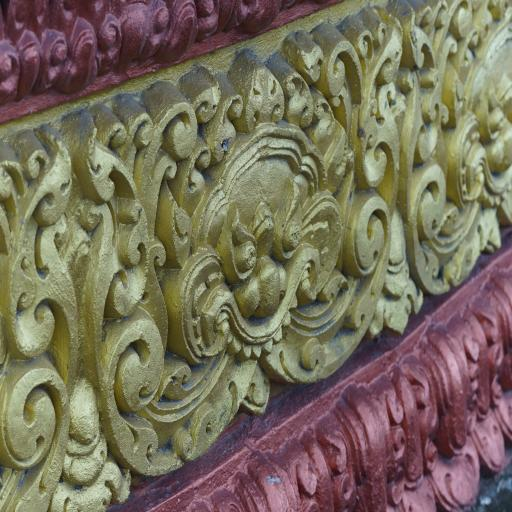la: (78, 141, 170, 447), (2, 144, 83, 473), (342, 40, 420, 350)
lua: (409, 329, 486, 509), (341, 383, 436, 512), (481, 277, 512, 449)
than: (134, 110, 380, 372), (441, 31, 512, 257)
